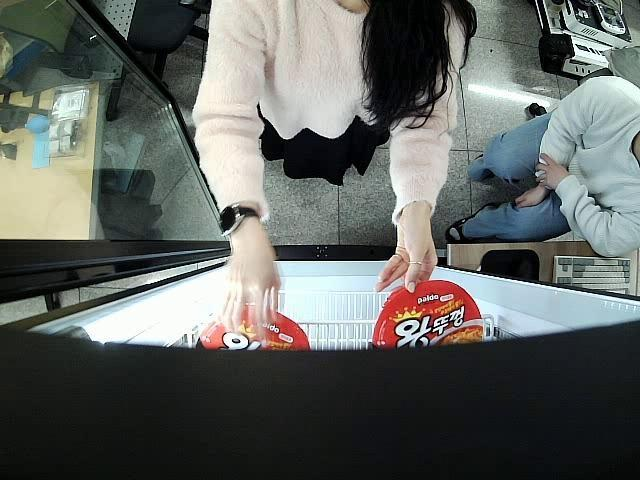10_wangTtukkeong: (370, 279, 484, 346), (193, 306, 312, 348)
